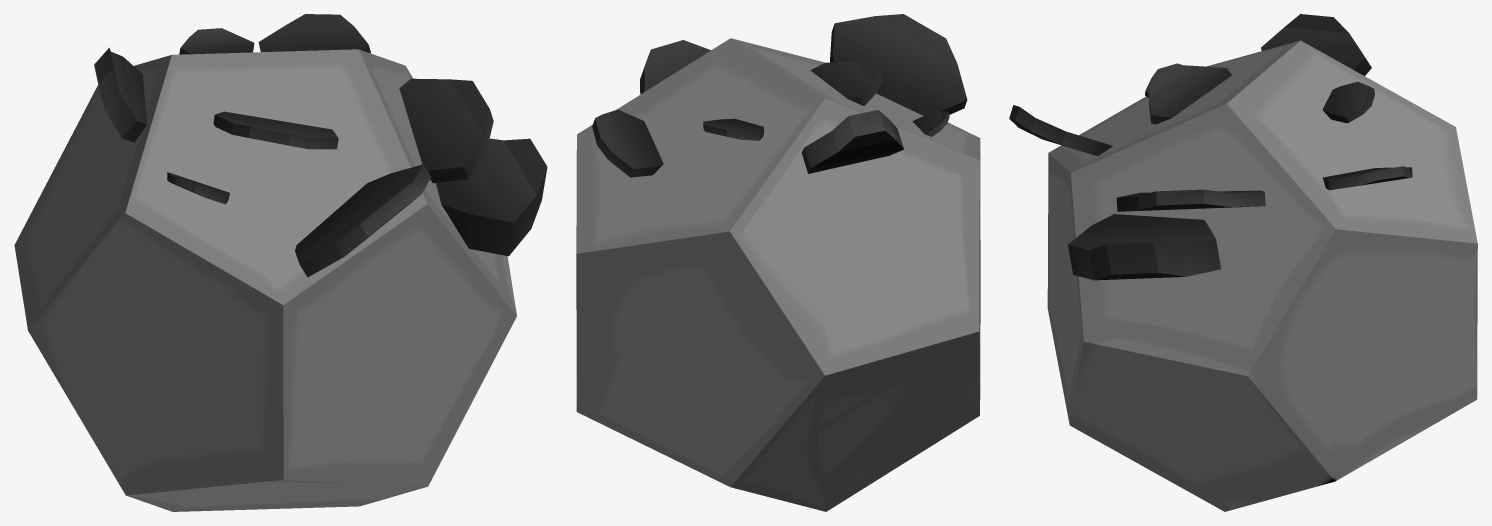
File: Stone03.fbx
3 renders of one model, left to right at view 1: azimuth 30°, elevation 25°; view 2: azimuth 150°, elevation 25°; view 3: azimuth 270°, elevation 25°, orthographic. The views are drawn at different scales.
Parts seen in each view (by area): view 1: pCube9; view 2: pCube9; view 3: pCube9.
Boxes of the visible parts, <box> form: pCube9: <box>14,14,547,511</box>; pCube9: <box>576,14,980,511</box>; pCube9: <box>1009,14,1477,511</box>.
Bounding box in the file's own units: 3.58 × 3.44 × 3.54.
